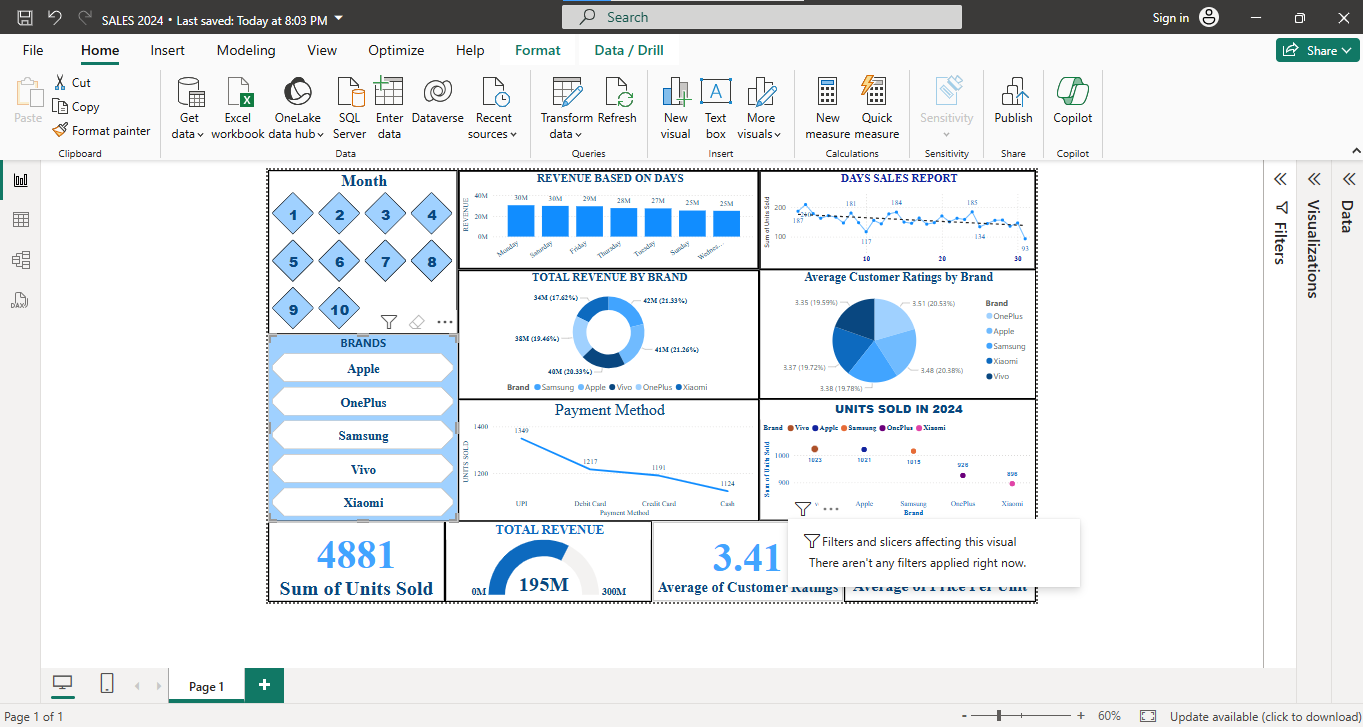

Layout of this report page (visuals, bound fields, positions):
{"tool":"powerbi","page":{"name":"Page 1","canvas":[1280,720],"ordinal":0},"visuals":[{"type":"lineChart","title":"UNITS SOLD IN 2024","fields":{"Y":["Sum(Sheet3.Units Sold)"],"Category":["Sheet3.Brand"],"Series":["Sheet3.Brand"]},"box":[818.3,381.7,461.7,203.3],"z":0},{"type":"donutChart","title":"TOTAL REVENUE BY BRAND","fields":{"Category":["Sheet3.Brand"],"Y":["Sum(Sheet3.REVENUE)"]},"box":[316,166,502,216],"z":1000},{"type":"gauge","title":"TOTAL REVENUE","fields":{"Y":["Sum(Sheet3.REVENUE)"]},"box":[295,585,345,135],"z":2000},{"type":"card","fields":{"Values":["Sum(Sheet3.Units Sold)"]},"box":[0,585,295,135],"z":3000},{"type":"lineChart","title":"Payment Method","fields":{"Category":["Sheet3.Payment Method"],"Y":["Sum(Sheet3.Units Sold)"]},"box":[316,382,502,204],"z":4000},{"type":"pieChart","title":"Average Customer Ratings by Brand","fields":{"Category":["Sheet3.Brand"],"Y":["Avg(Sheet3.Customer Ratings)"]},"box":[818.3,165,461.7,216.7],"z":5000},{"type":"advancedSlicerVisual","fields":{"Values":["Sheet3.Month"]},"box":[0,0,316,274],"z":6000},{"type":"card","fields":{"Values":["Avg(Sheet3.Customer Ratings)"]},"box":[640,585,320,135],"z":7000},{"type":"advancedSlicerVisual","title":"BRANDS","fields":{"Values":["Sheet3.Brand"]},"box":[0,275,315,310],"z":8000},{"type":"card","fields":{"Values":["Avg(Sheet3.Price Per Unit)"]},"box":[960,585,320,135],"z":9000},{"type":"lineChart","title":"DAYS SALES REPORT","fields":{"Y":["Sum(Sheet3.Units Sold)"],"Category":["Sheet3.Day"]},"box":[818.3,0,461.7,166.7],"z":10000},{"type":"clusteredColumnChart","title":"REVENUE BASED ON DAYS","fields":{"Category":["Sheet3.Day Name"],"Y":["Sum(Sheet3.REVENUE)"]},"box":[316,0,502,166],"z":11000}]}

Visuals, with their boxes on the page's 1280x720 design canvas (x1, y1, x2, y2). These are canvas units, not pixel positions in the 1363x727 screenshot, which may show the page scaled, cropped or inside an application window:
"UNITS SOLD IN 2024" lineChart: left=818, top=382, right=1280, bottom=585
"TOTAL REVENUE BY BRAND" donutChart: left=316, top=166, right=818, bottom=382
"TOTAL REVENUE" gauge: left=295, top=585, right=640, bottom=720
card - Sum(Sheet3.Units Sold): left=0, top=585, right=295, bottom=720
"Payment Method" lineChart: left=316, top=382, right=818, bottom=586
"Average Customer Ratings by Brand" pieChart: left=818, top=165, right=1280, bottom=382
advancedSlicerVisual - Sheet3.Month: left=0, top=0, right=316, bottom=274
card - Avg(Sheet3.Customer Ratings): left=640, top=585, right=960, bottom=720
"BRANDS" advancedSlicerVisual: left=0, top=275, right=315, bottom=585
card - Avg(Sheet3.Price Per Unit): left=960, top=585, right=1280, bottom=720
"DAYS SALES REPORT" lineChart: left=818, top=0, right=1280, bottom=167
"REVENUE BASED ON DAYS" clusteredColumnChart: left=316, top=0, right=818, bottom=166
